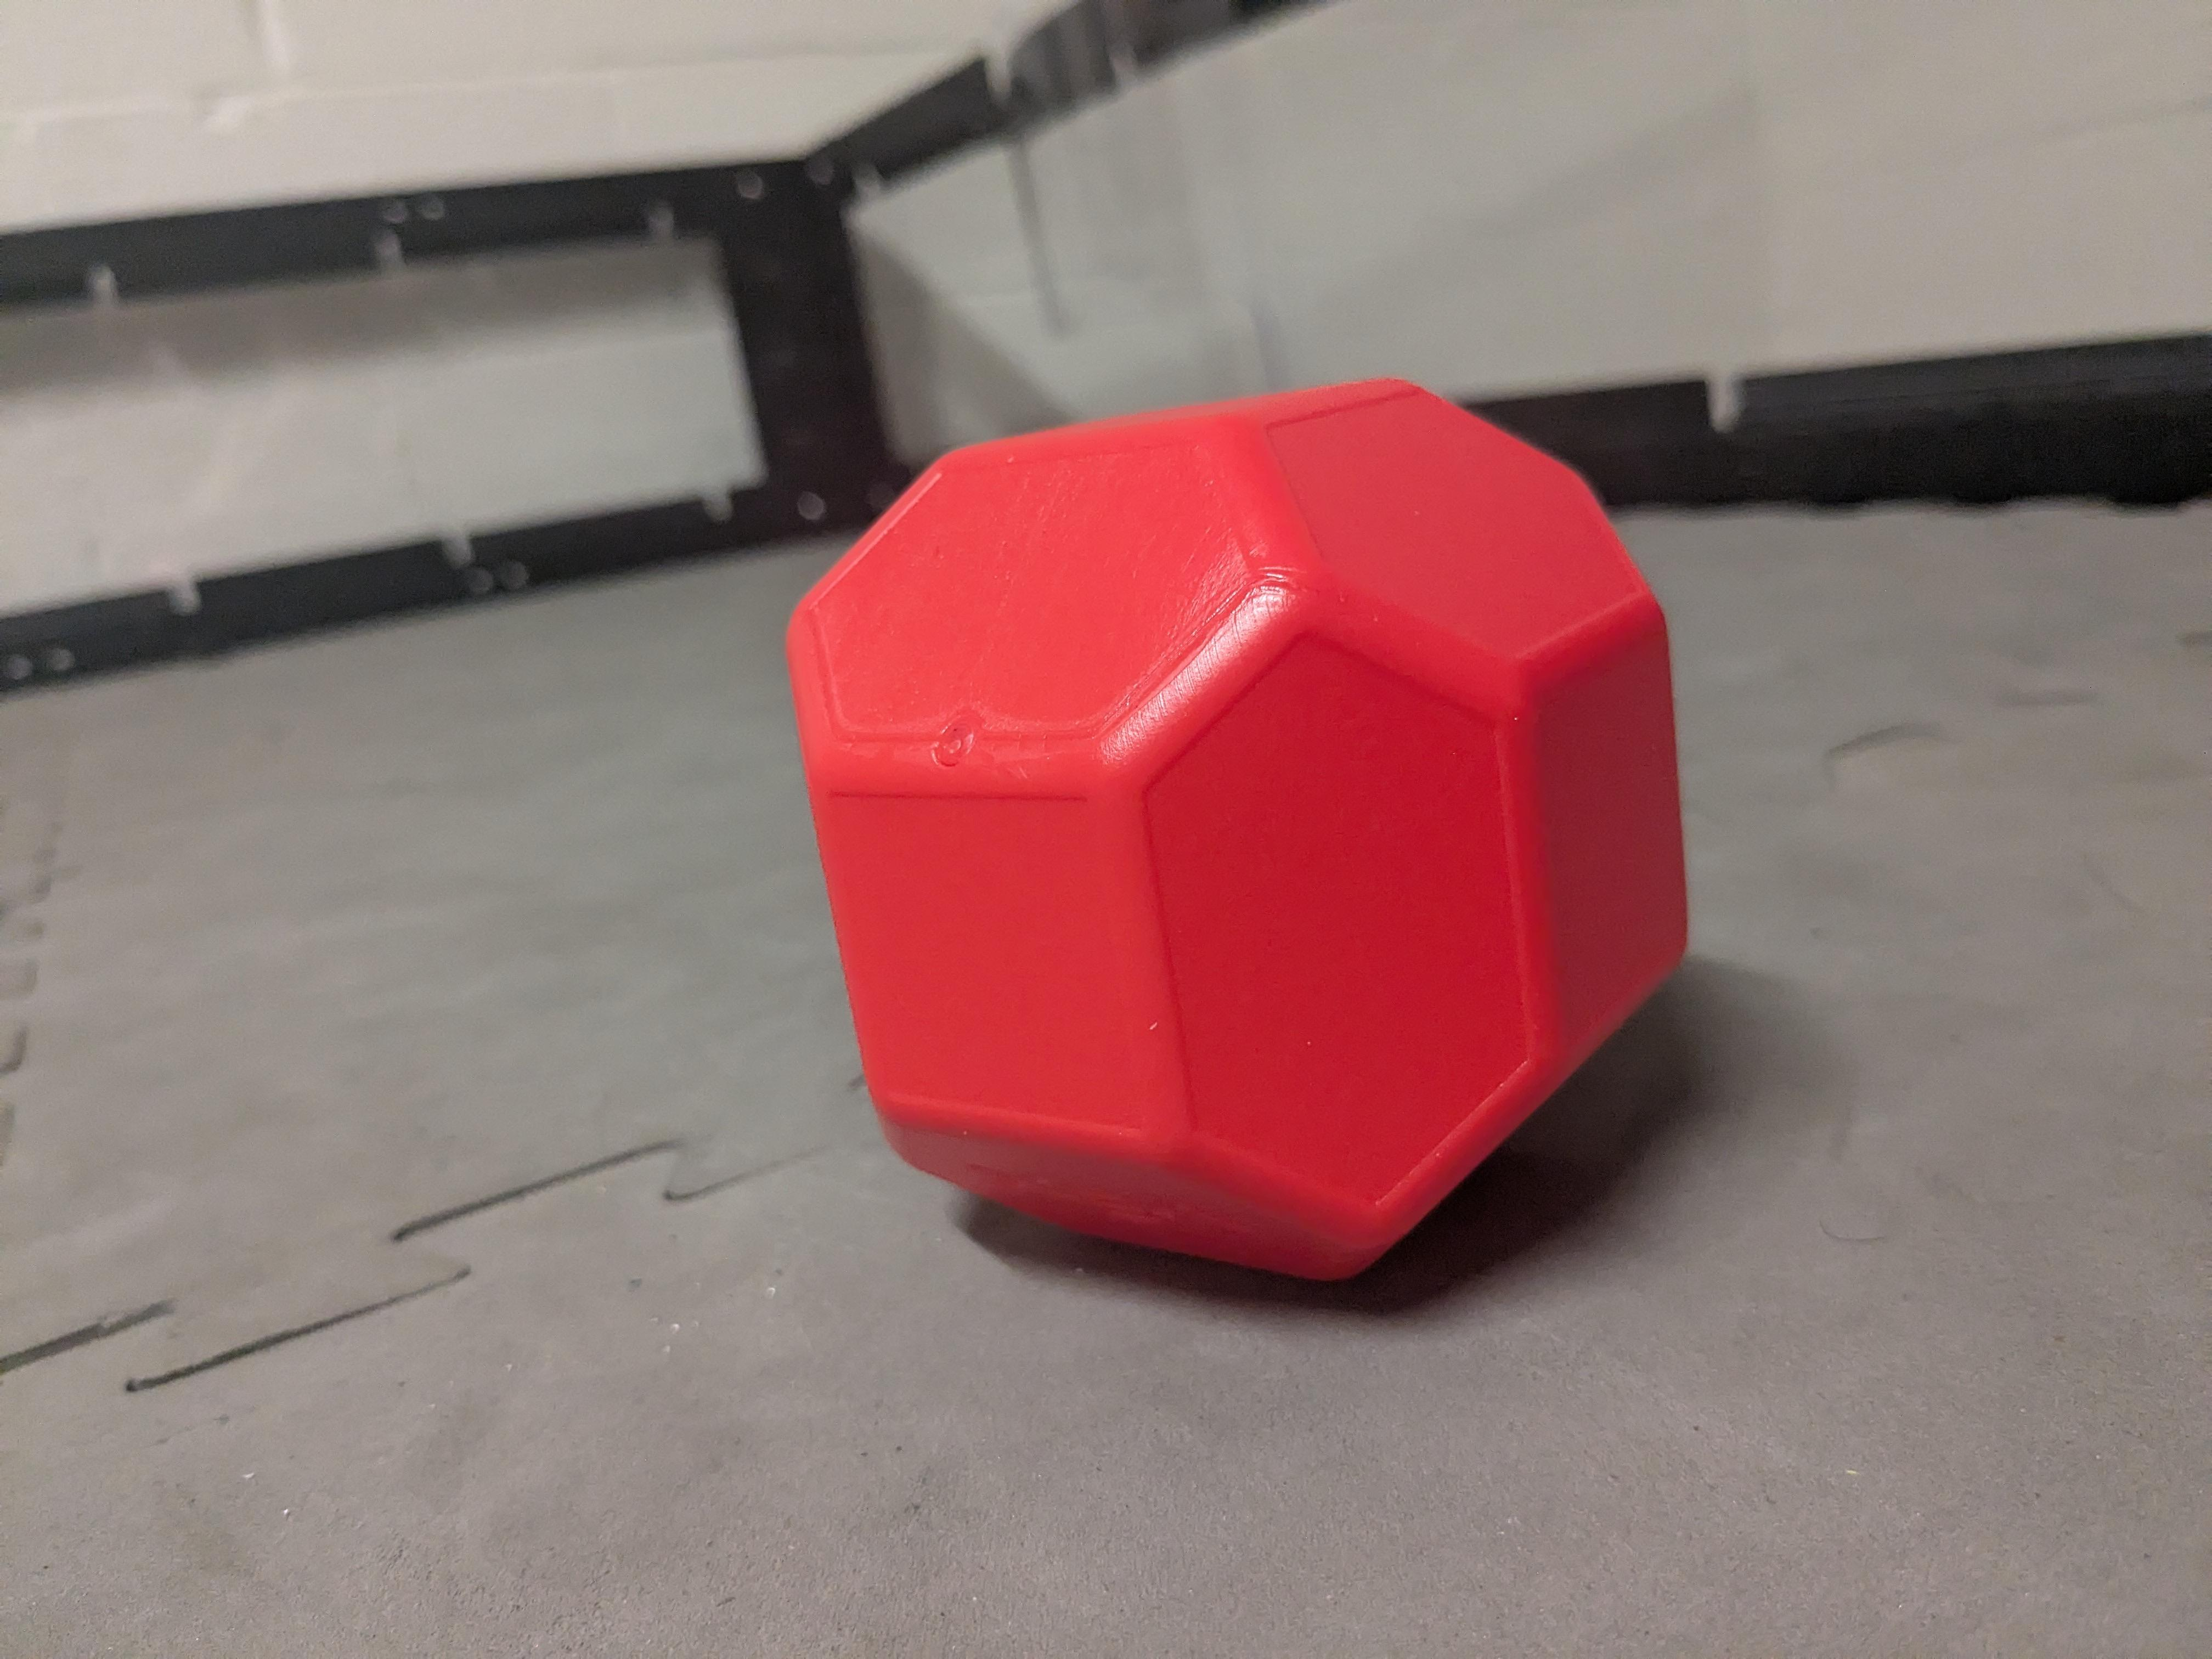Vex-Pieces-RED: (780, 380, 1696, 1288)
